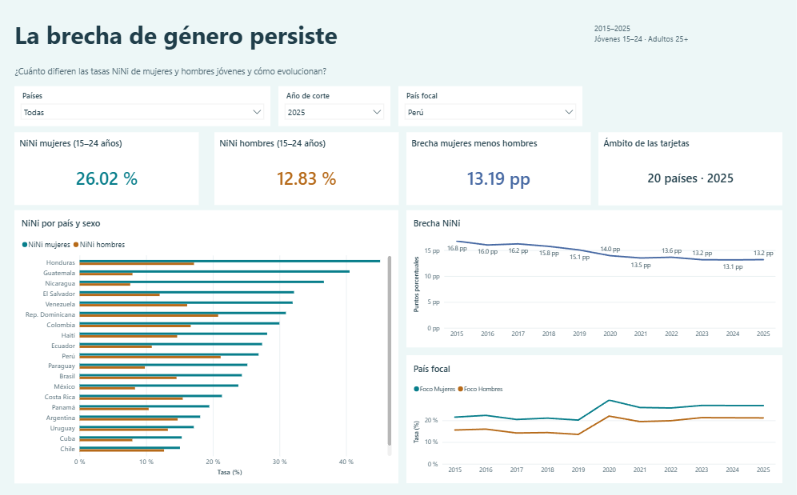

What the dashboard file says about the page in this screenshot:
{"tool":"powerbi","page":{"name":"02 Género NiNi","canvas":[1600,1000],"ordinal":1},"visuals":[{"type":"textbox","box":[32,38,1536,66],"z":5000},{"type":"textbox","box":[32,132,1536,29],"z":6000},{"type":"slicer","fields":{"Values":["Paises.País"]},"box":[32,174,512,80],"z":7000},{"type":"slicer","fields":{"Values":["Corte.Año"]},"box":[560,174,224,80],"z":8000},{"type":"slicer","fields":{"Values":["Foco.País"]},"box":[800,174,368,80],"z":9000},{"type":"textbox","box":[1192,48,376,55],"z":10000},{"type":"card","title":"NiNi mujeres (15–24 años)","fields":{"Values":["Observaciones.NiNi mujeres"]},"box":[31.4,265.7,368.6,145.7],"z":12000},{"type":"card","title":"NiNi hombres (15–24 años)","fields":{"Values":["Observaciones.NiNi hombres"]},"box":[431.1,265.6,368.6,145.7],"z":13000},{"type":"card","title":"Brecha mujeres menos hombres","fields":{"Values":["Observaciones.Brecha NiNi"]},"box":[815.6,265.6,368.6,145.7],"z":14000},{"type":"card","title":"Ámbito de las tarjetas","fields":{"Values":["Observaciones.Contexto"]},"box":[1200,266,368,146],"z":15000},{"type":"clusteredBarChart","title":"NiNi por país y sexo","fields":{"Category":["Paises.País"],"Y":["Observaciones.NiNi mujeres","Observaciones.NiNi hombres"]},"box":[32,422,768,546],"z":16000},{"type":"lineChart","title":"Brecha NiNi","fields":{"Category":["Anios.Año"],"Y":["Observaciones.Brecha de género por año"]},"box":[816,422,752,274],"z":17000},{"type":"lineChart","title":"País focal","fields":{"Category":["Anios.Año"],"Y":["Observaciones.Foco Mujeres","Observaciones.Foco Hombres"]},"box":[816,712,752,256],"z":18000}]}

Visuals, with their boxes in screenshot pixels (x1, y1, x2, y2), scaled from the page's 1600x1000 canvas onto the 797x495 screenshot:
textbox: (left=16, top=19, right=781, bottom=51)
textbox: (left=16, top=65, right=781, bottom=80)
slicer - Paises.País: (left=16, top=86, right=271, bottom=126)
slicer - Corte.Año: (left=279, top=86, right=391, bottom=126)
slicer - Foco.País: (left=398, top=86, right=582, bottom=126)
textbox: (left=594, top=24, right=781, bottom=51)
"NiNi mujeres (15–24 años)" card: (left=16, top=132, right=199, bottom=204)
"NiNi hombres (15–24 años)" card: (left=215, top=131, right=398, bottom=204)
"Brecha mujeres menos hombres" card: (left=406, top=131, right=590, bottom=204)
"Ámbito de las tarjetas" card: (left=598, top=132, right=781, bottom=204)
"NiNi por país y sexo" clusteredBarChart: (left=16, top=209, right=398, bottom=479)
"Brecha NiNi" lineChart: (left=406, top=209, right=781, bottom=345)
"País focal" lineChart: (left=406, top=352, right=781, bottom=479)
